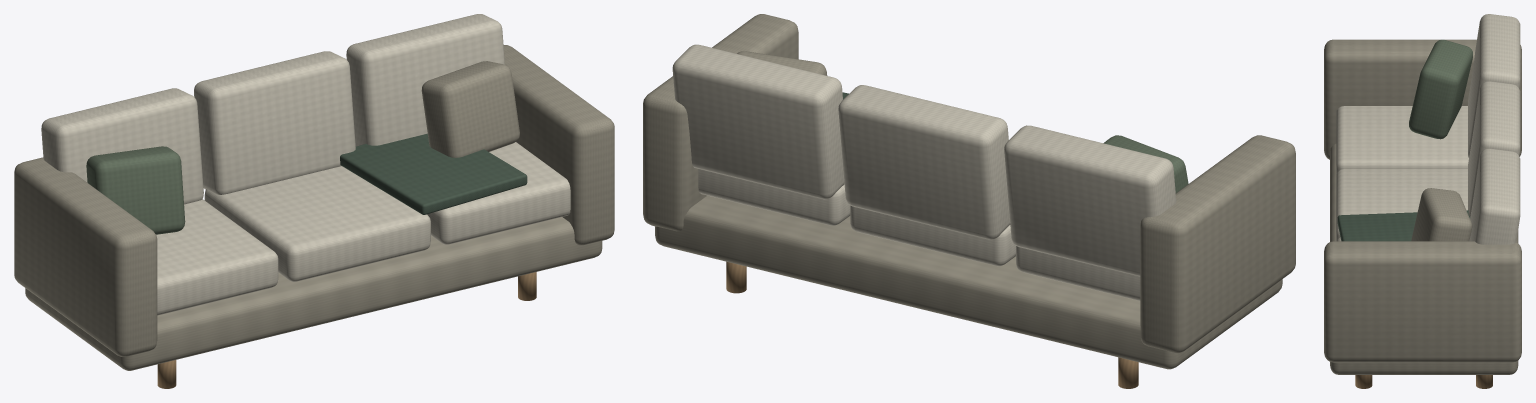
Rendered from sofa.glb.
3 views of the same model, side by side, from view 1: azimuth 30°, elevation 25°; view 2: azimuth 150°, elevation 25°; view 3: azimuth 270°, elevation 25° (orthographic). The views are drawn at different scales.
Visible parts, largest first — view 1: CANONICAL frame, CANONICAL arm, CANONICAL back 2, CANONICAL seat 2, CANONICAL back 3, CANONICAL arm.001, CANONICAL back 1, CANONICAL seat 1, ACCENT throw, ACCENT loose linen cushion.001, CANONICAL seat 3, ACCENT loose linen cushion (+1 smaller); view 2: CANONICAL frame, CANONICAL arm, CANONICAL back 2, CANONICAL back 3, CANONICAL back 1, CANONICAL arm.001, CANONICAL seat 2, CANONICAL seat 3, CANONICAL seat 1, ACCENT loose linen cushion, ACCENT loose linen cushion.001, ACCENT oak foot.001 (+1 smaller); view 3: CANONICAL arm.001, CANONICAL arm, CANONICAL seat 1, CANONICAL seat 2, CANONICAL back 3, ACCENT loose linen cushion, CANONICAL back 1, CANONICAL back 2, CANONICAL frame, ACCENT loose linen cushion.001, ACCENT throw, ACCENT oak foot.002 (+1 smaller).
Boxes of the visible parts, bbox=[...] form: CANONICAL frame: bbox=[25, 217, 602, 370]; CANONICAL arm: bbox=[14, 157, 157, 356]; CANONICAL back 2: bbox=[194, 51, 355, 194]; CANONICAL seat 2: bbox=[204, 166, 430, 281]; CANONICAL back 3: bbox=[346, 14, 504, 146]; CANONICAL arm.001: bbox=[503, 45, 614, 245]; CANONICAL back 1: bbox=[41, 88, 203, 204]; CANONICAL seat 1: bbox=[156, 199, 278, 315]; ACCENT throw: bbox=[340, 133, 527, 214]; ACCENT loose linen cushion.001: bbox=[421, 61, 519, 157]; CANONICAL seat 3: bbox=[427, 142, 570, 244]; ACCENT loose linen cushion: bbox=[86, 146, 185, 234]; CANONICAL frame: bbox=[655, 195, 1282, 369]; CANONICAL arm: bbox=[1140, 135, 1295, 353]; CANONICAL back 2: bbox=[838, 85, 1010, 239]; CANONICAL back 3: bbox=[672, 44, 844, 199]; CANONICAL back 1: bbox=[1004, 125, 1176, 276]; CANONICAL arm.001: bbox=[643, 14, 798, 231]; CANONICAL seat 2: bbox=[850, 205, 1015, 266]; CANONICAL seat 3: bbox=[698, 169, 850, 225]; CANONICAL seat 1: bbox=[1016, 246, 1140, 300]; ACCENT loose linen cushion: bbox=[1103, 135, 1188, 192]; ACCENT loose linen cushion.001: bbox=[737, 51, 827, 75]; ACCENT oak foot.001: bbox=[1118, 357, 1138, 388]; CANONICAL arm.001: bbox=[1324, 241, 1521, 362]; CANONICAL arm: bbox=[1324, 39, 1521, 159]; CANONICAL seat 1: bbox=[1336, 106, 1468, 174]; CANONICAL seat 2: bbox=[1336, 168, 1467, 241]; CANONICAL back 3: bbox=[1469, 148, 1520, 244]; ACCENT loose linen cushion: bbox=[1409, 39, 1472, 139]; CANONICAL back 1: bbox=[1468, 14, 1520, 157]; CANONICAL back 2: bbox=[1468, 81, 1520, 216]; CANONICAL frame: bbox=[1330, 144, 1518, 374]; ACCENT loose linen cushion.001: bbox=[1411, 188, 1472, 241]; ACCENT throw: bbox=[1337, 210, 1470, 241]; ACCENT oak foot.002: bbox=[1355, 375, 1372, 388].
Bounding box in the file's own units: 2.16 × 0.8995 × 0.82.
5 materials, 5 textured.
